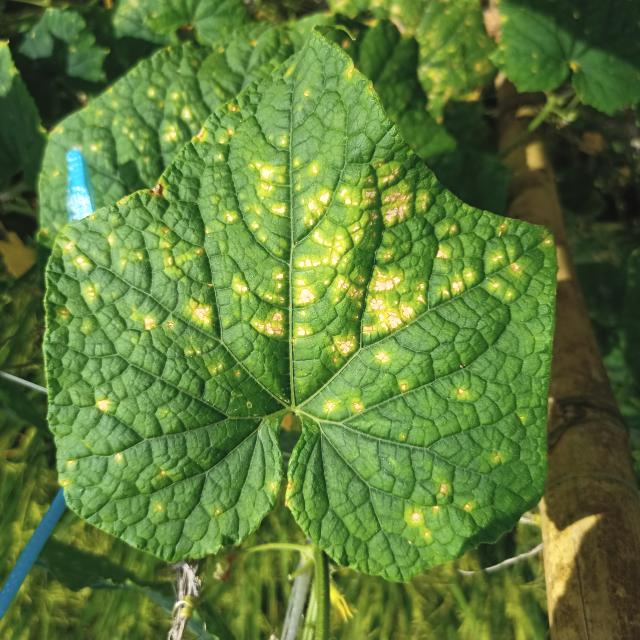disease_cucumber: (55, 104, 541, 551)
